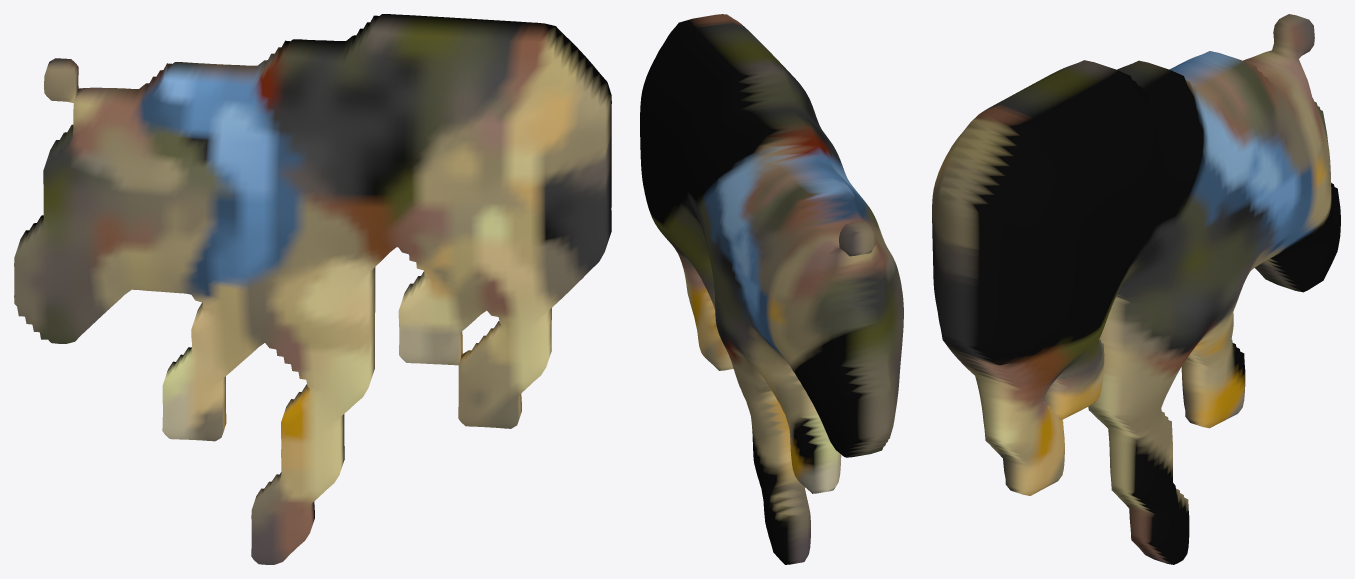
File: scout.glb
The picture shows the model from 3 angles, left to right: view 1: azimuth 30°, elevation 25°; view 2: azimuth 150°, elevation 25°; view 3: azimuth 270°, elevation 25°; orthographic projection. The views are drawn at different scales.
Parts seen in each view (by area): view 1: allied_attack_dog; view 2: allied_attack_dog; view 3: allied_attack_dog.
Boxes of the visible parts, x1=… form: allied_attack_dog: x1=14, y1=14, x2=611, y2=564; allied_attack_dog: x1=640, y1=14, x2=903, y2=564; allied_attack_dog: x1=932, y1=14, x2=1340, y2=564.
Size of the model in its own units: 1.68 by 2.01 by 1.4.
